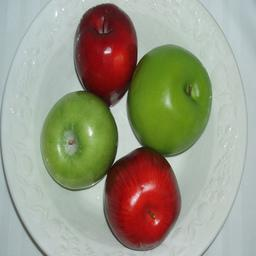apple: (133, 46, 219, 159), (104, 146, 183, 251), (39, 99, 118, 198), (71, 6, 138, 107)
